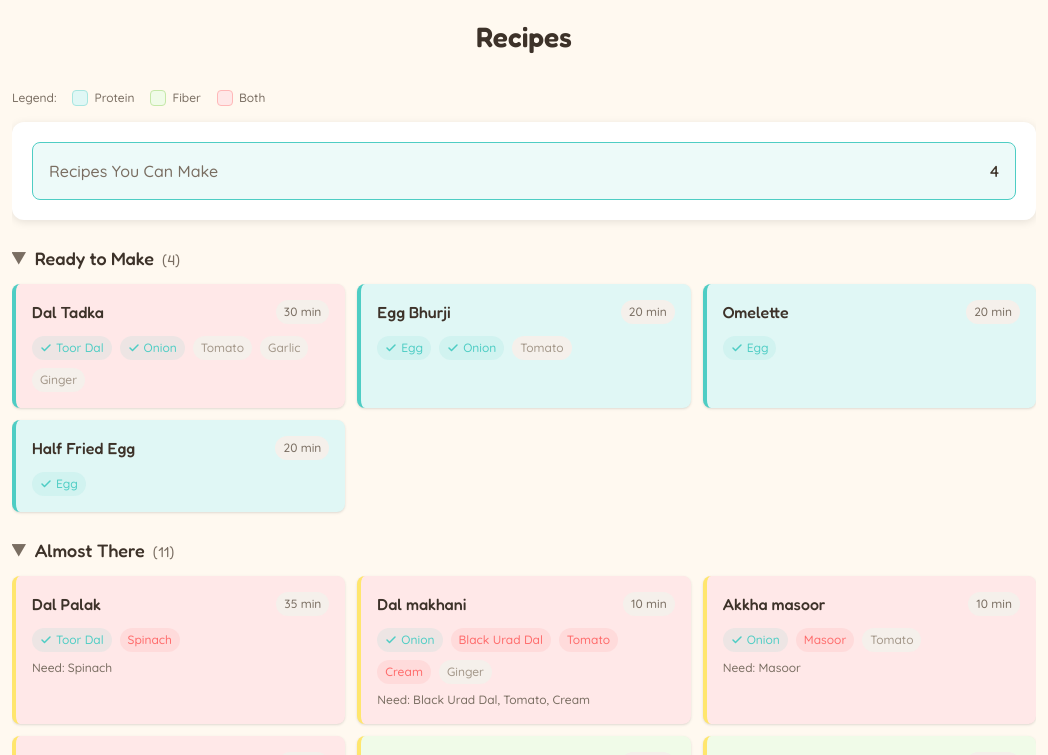
Test: RecipeSection › expands section when collapsed header is clicked
The width and height of the screenshot is (1048, 755).
Note: Collapse first
Click the button "▶ Ready to Make(4)".
click(94, 258)  # box [12,244,1036,272]
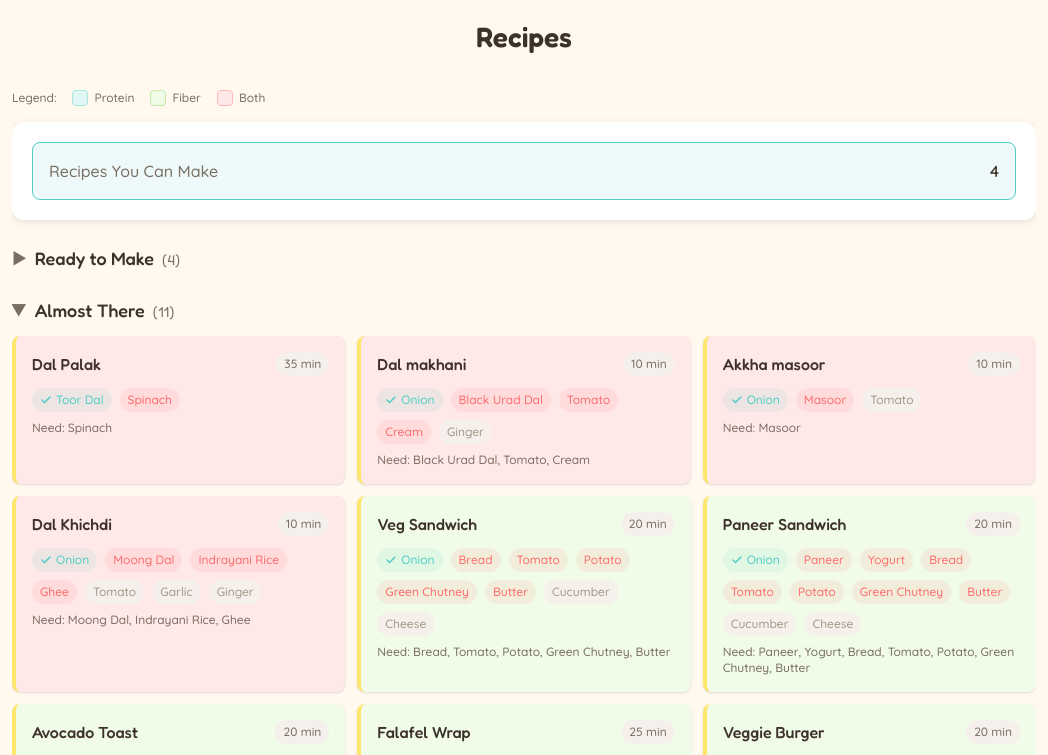
Expected: the button "▶ Ready to Make(4)" is collapsed
Note: Expand again
Click the button "▶ Ready to Make(4)".
click(94, 258)  # box [12,244,1036,272]
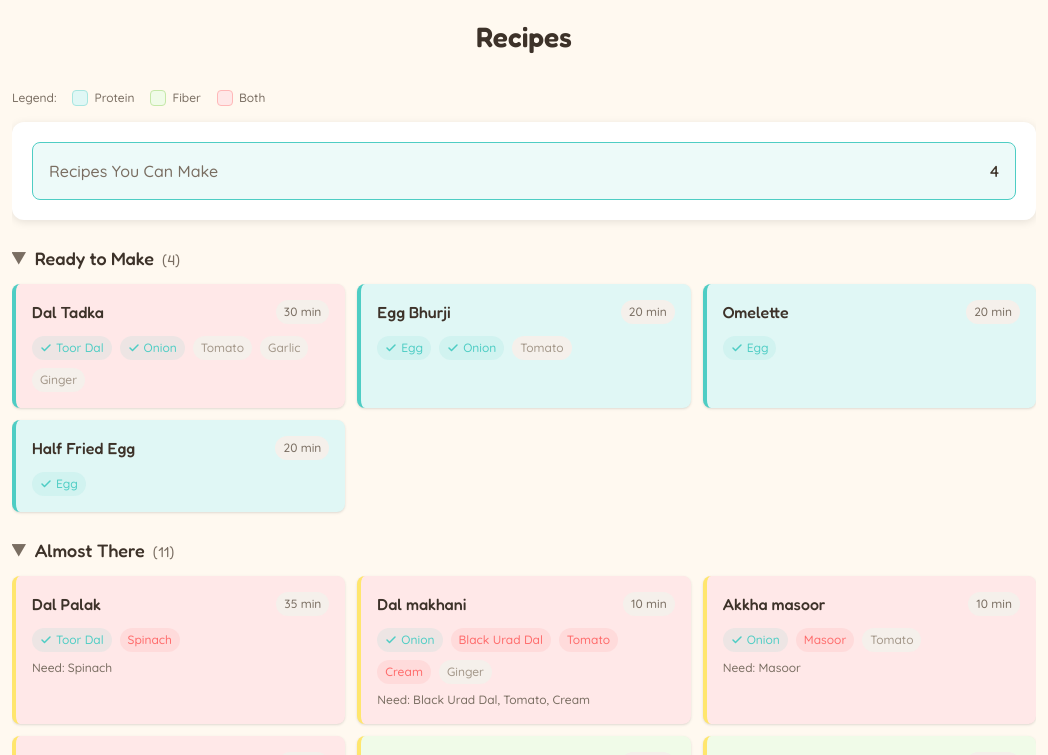
Expected: the button "▶ Ready to Make(4)" is expanded, [12,244,1036,272]
